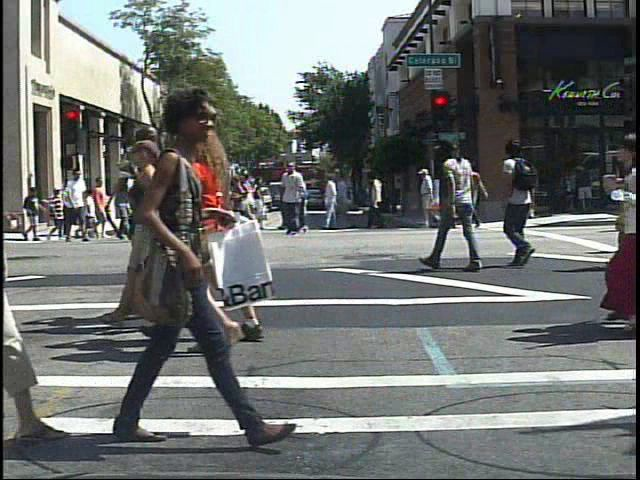person: (115, 77, 273, 454), (162, 95, 239, 348), (202, 122, 250, 353), (418, 128, 490, 271), (497, 132, 550, 276), (169, 154, 206, 248), (62, 164, 92, 246), (126, 160, 156, 241), (114, 162, 142, 243), (417, 165, 440, 228), (46, 184, 68, 242), (86, 181, 107, 223)
